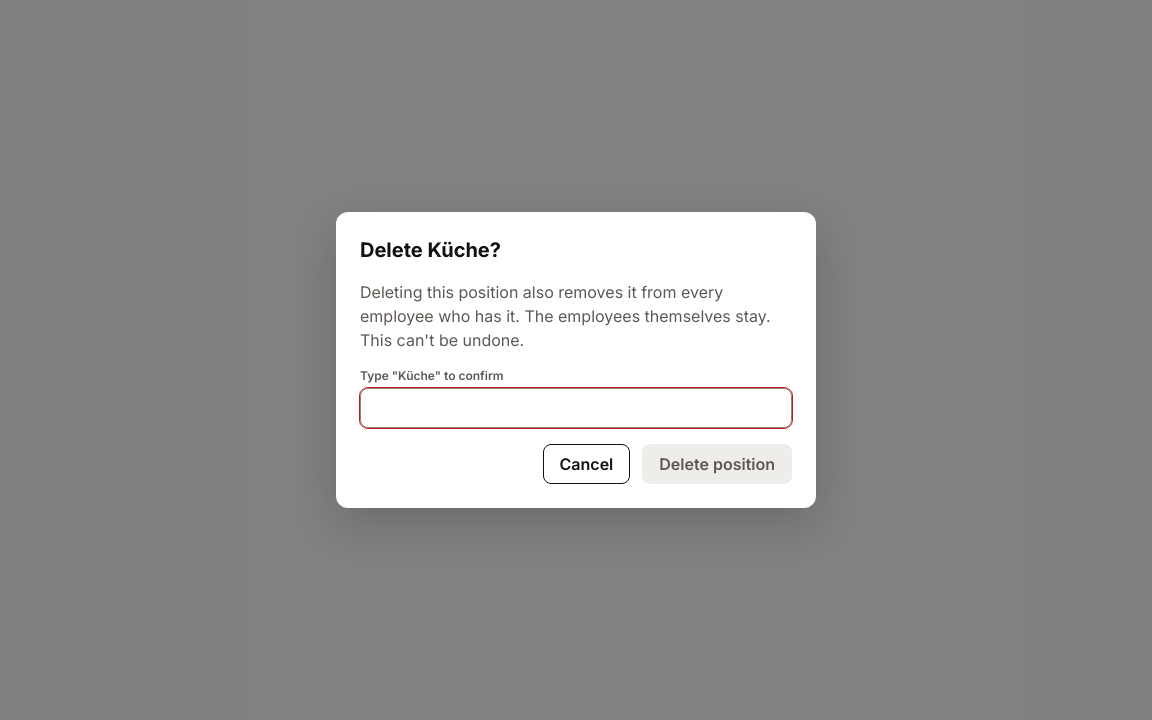
Test: DeletePosition › stays open and disabled while the request is running
Later steps or results of the test are not shown.
Step 1. Type "Küche" into the field labelled "Type \"Küche\" to confirm" → (576, 408), box [360,388,792,428]
Then press Enter
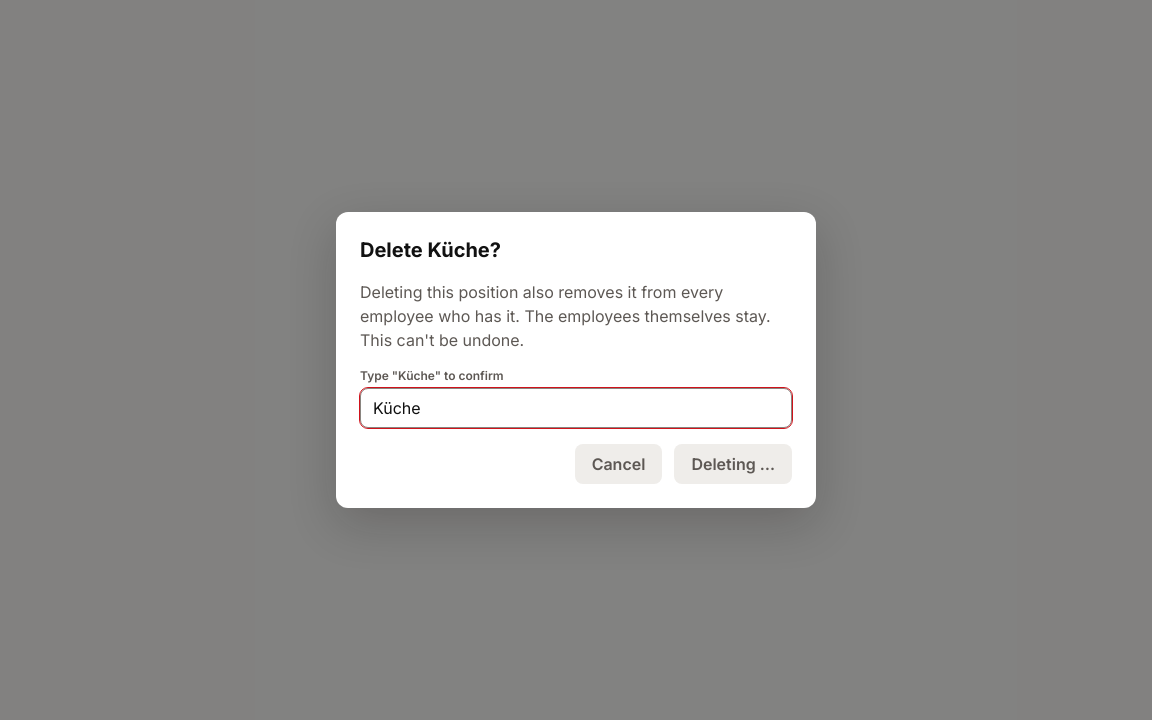
Check: the button "Deleting …" is disabled, box [674,444,792,484]
Check: the button "Cancel" is disabled, box [575,444,662,484]
